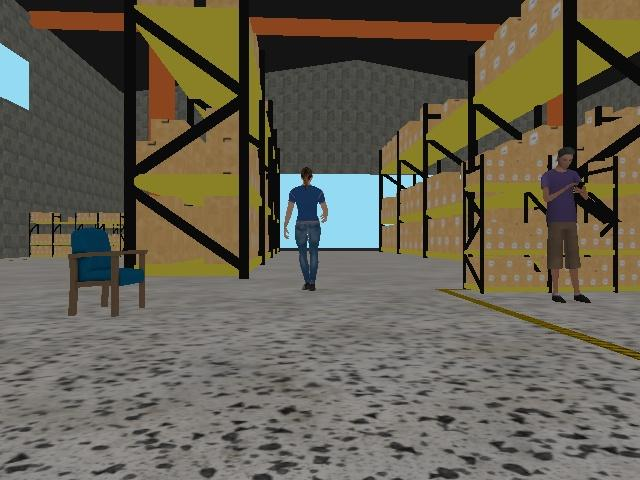chair: (66, 226, 150, 319)
person: (540, 145, 589, 305), (282, 164, 329, 292)
